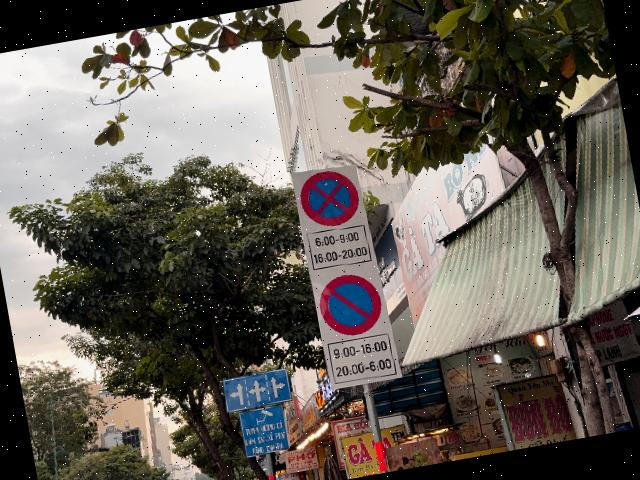cam-do-xe: (316, 270, 386, 340)
cam-dung-va-do-xe: (296, 166, 362, 230)
